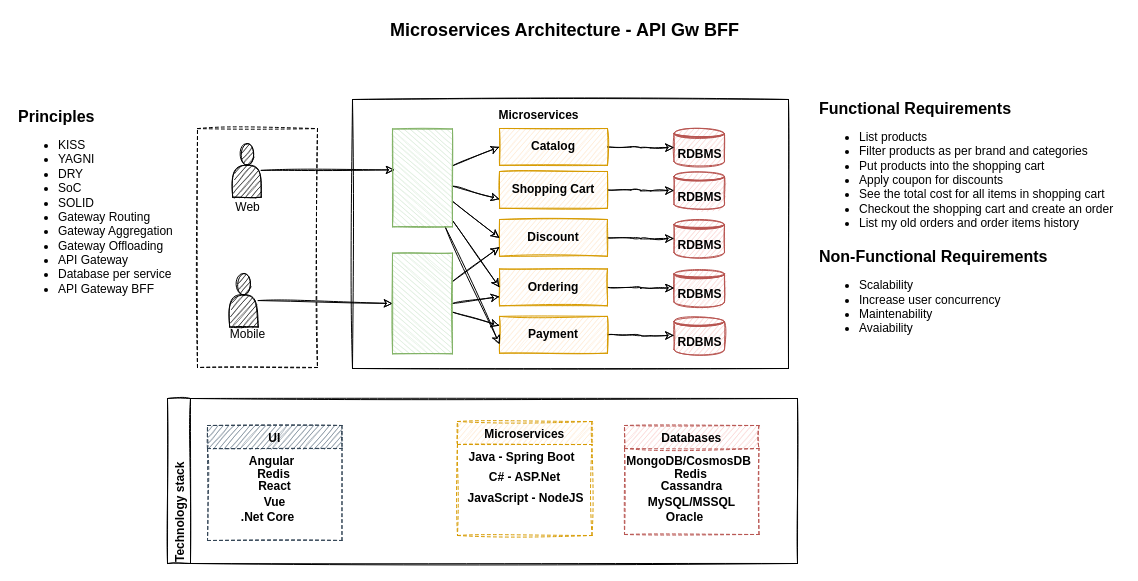
Image size: 1138x581. Some labels were removed from this diagram. Each missing label, with the centre of its shape:
API Gateway Modile: the point at 422,303
API Gateway Web: the point at 422,177
